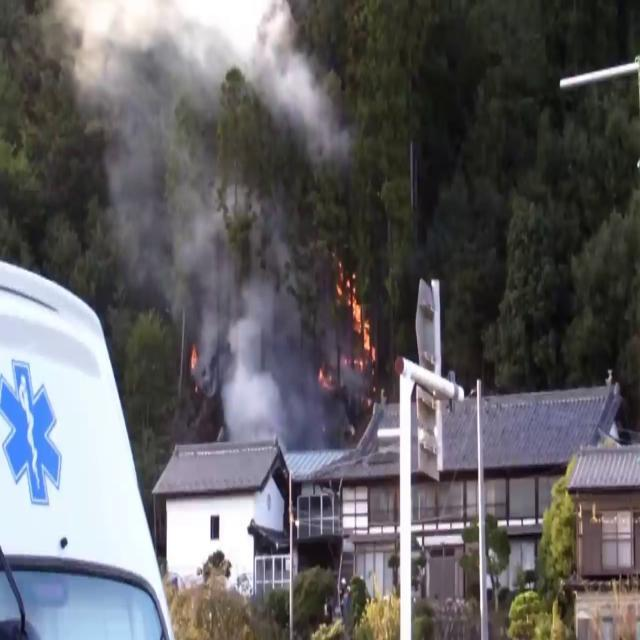Fire: (336, 266, 378, 375)
Smoke: (106, 0, 352, 414)
